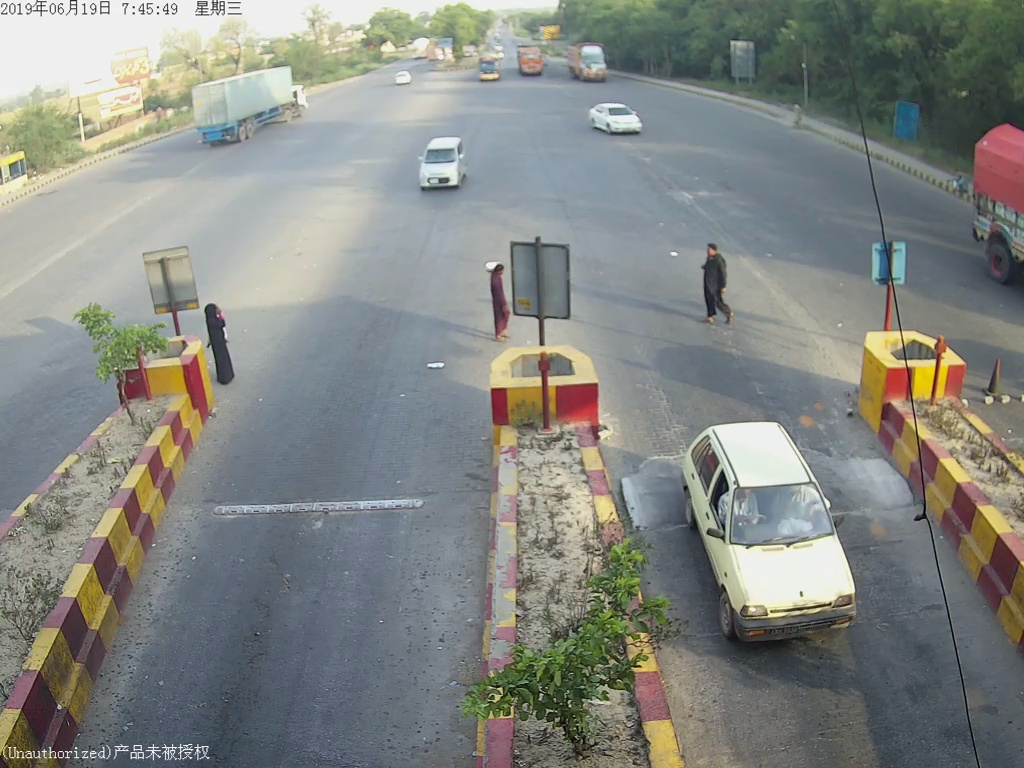Cat-1: (682, 415, 884, 658), (417, 131, 461, 188)
